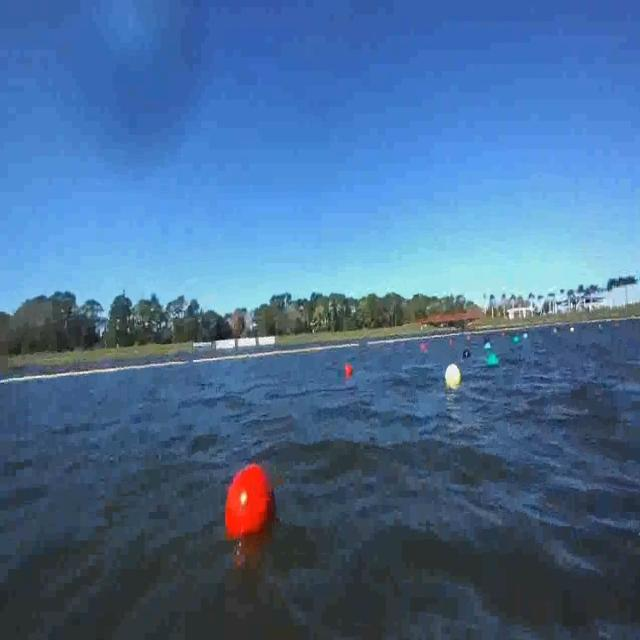black-buoy: (463, 347, 471, 359), (483, 337, 489, 343)
green-buoy: (488, 353, 500, 368), (484, 342, 491, 350)
red-buoy: (223, 463, 278, 545), (346, 363, 355, 377)
yellow-buoy: (444, 363, 459, 388)
